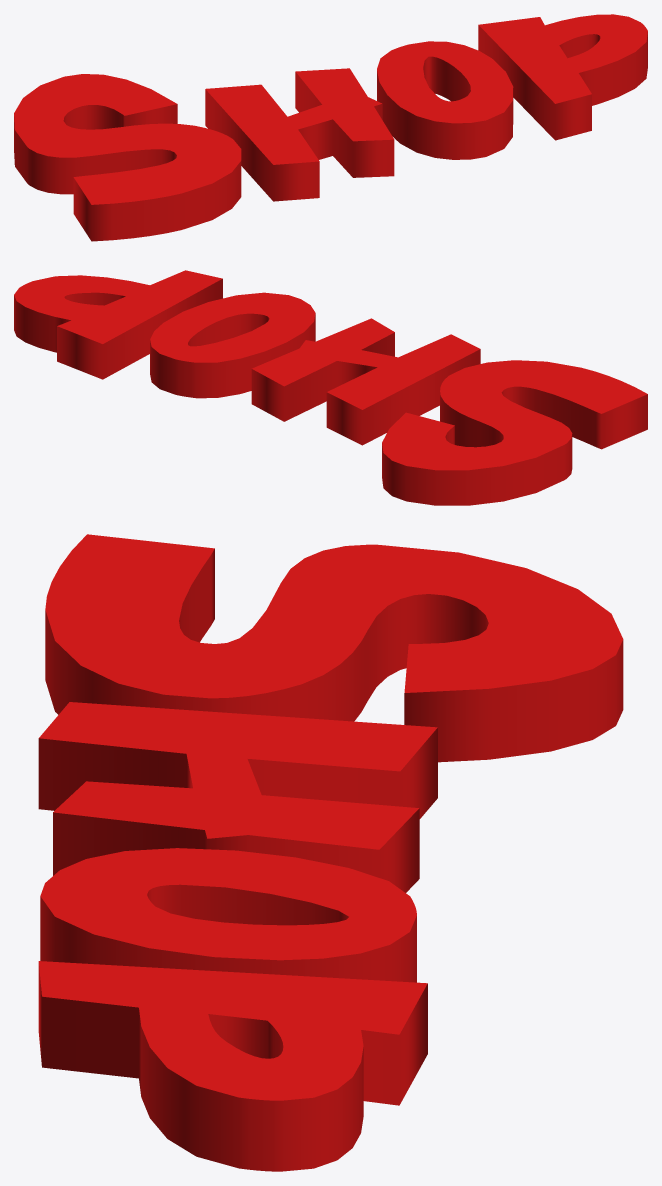
Rendered from shinyshop.fbx.
3 views of the same model, one above another, from view 1: azimuth 30°, elevation 25°; view 2: azimuth 150°, elevation 25°; view 3: azimuth 270°, elevation 25° (orthographic). The views are drawn at different scales.
Parts seen in each view (by area): view 1: Text; view 2: Text; view 3: Text.
Part boxes in pixels (box(x1,y1,x2,y2)): Text: box(14, 14, 647, 241); Text: box(14, 270, 647, 505); Text: box(38, 534, 623, 1171).
Size of the model in its own units: 137 by 8 by 59.78.
